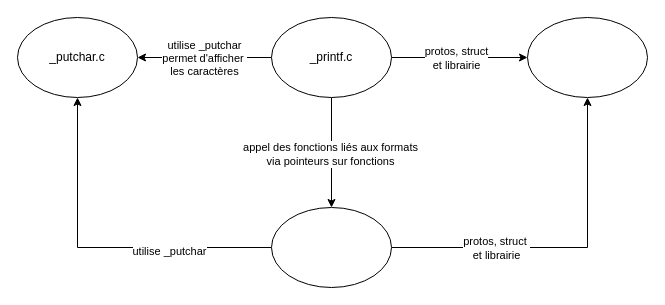
Image size: 665x305. Some labels were removed from this diagram. Each missing label, with the centre of its shape:
"main.h" goes at (587,57).
"print_func.c" goes at (331,247).
